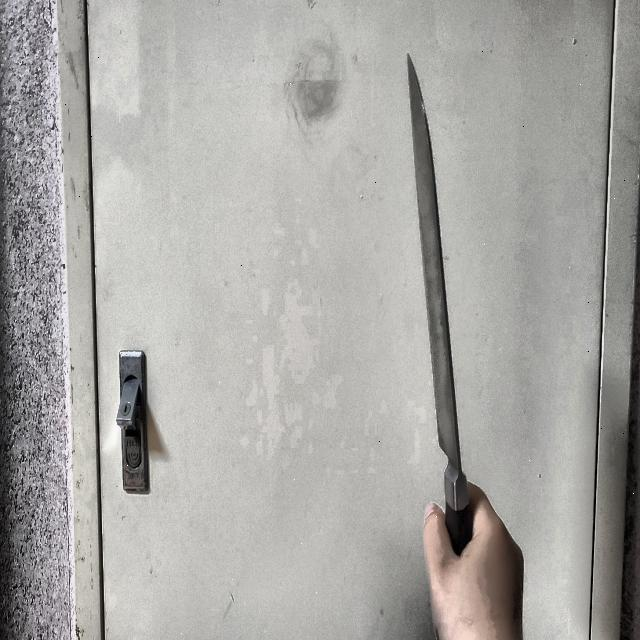knife: (407, 55, 475, 559)
